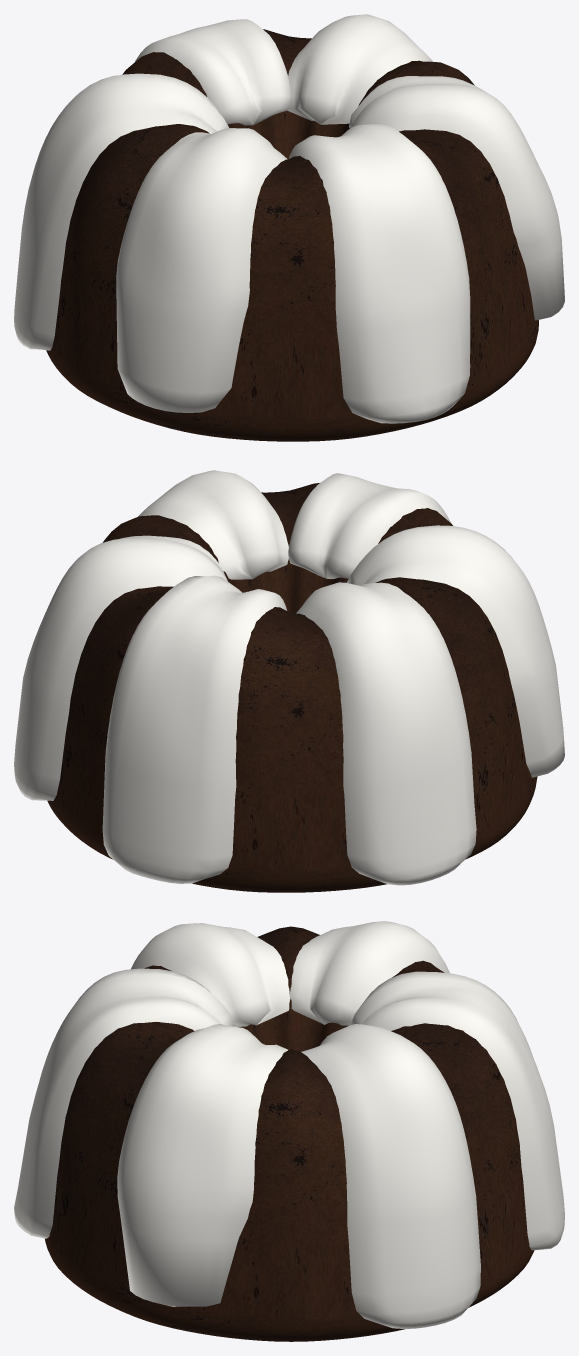
File: bundtlet_chocolate.glb
3 renders of one model, top to bottom at view 1: azimuth 30°, elevation 25°; view 2: azimuth 150°, elevation 25°; view 3: azimuth 270°, elevation 25°, orthographic.
Visible parts, largest first — view 1: cake.001, frosting.004, frosting.003, frosting.002, frosting.005, frosting, frosting.001; view 2: cake.001, frosting.001, frosting.002, frosting, frosting.003, frosting.005, frosting.004; view 3: cake.001, frosting, frosting.005, frosting.001, frosting.004, frosting.002, frosting.003.
Boxes of the visible parts, box(x1,y1,x2,y2) form: cake.001: box(46, 29, 538, 441); frosting.004: box(289, 123, 470, 423); frosting.003: box(116, 128, 287, 412); frosting.002: box(14, 73, 229, 350); frosting.005: box(349, 76, 564, 320); frosting: box(287, 14, 433, 124); frosting.001: box(135, 19, 290, 125); cake.001: box(47, 483, 537, 892); frosting.001: box(102, 575, 287, 883); frosting.002: box(296, 582, 476, 885); frosting: box(14, 535, 227, 800); frosting.003: box(347, 525, 564, 777); frosting.005: box(138, 470, 288, 579); frosting.004: box(288, 473, 450, 578); cake.001: box(45, 926, 534, 1341); frosting: box(301, 1024, 480, 1328); frosting.005: box(117, 1024, 288, 1306); frosting.001: box(350, 971, 564, 1250); frosting.004: box(14, 968, 234, 1238); frosting.002: box(289, 921, 449, 1025); frosting.003: box(131, 923, 290, 1026).
Bounding box in the file's own units: 0.1046 × 0.0603 × 0.1138.
2 materials, 1 textured.
